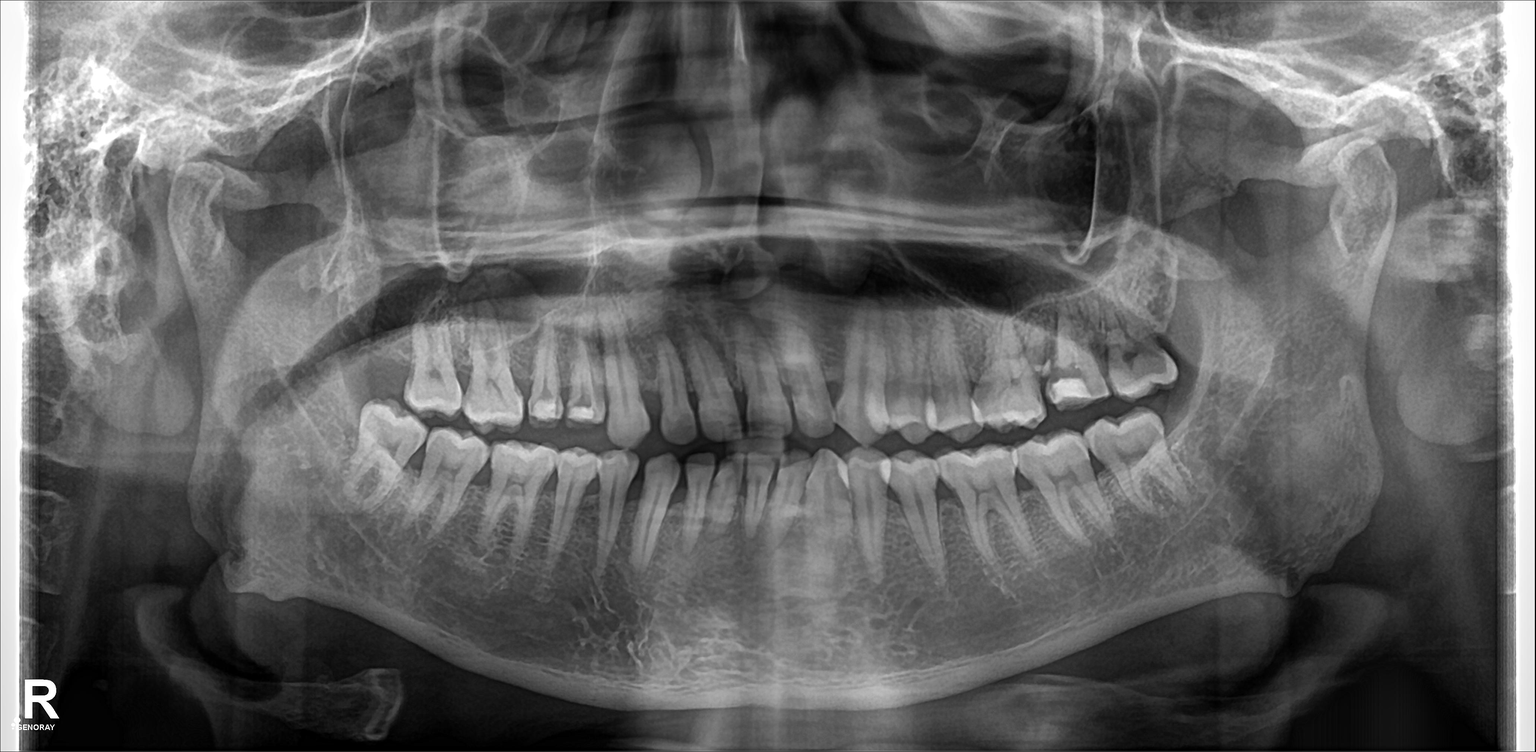Missing Tooth: (346, 294, 411, 411)
